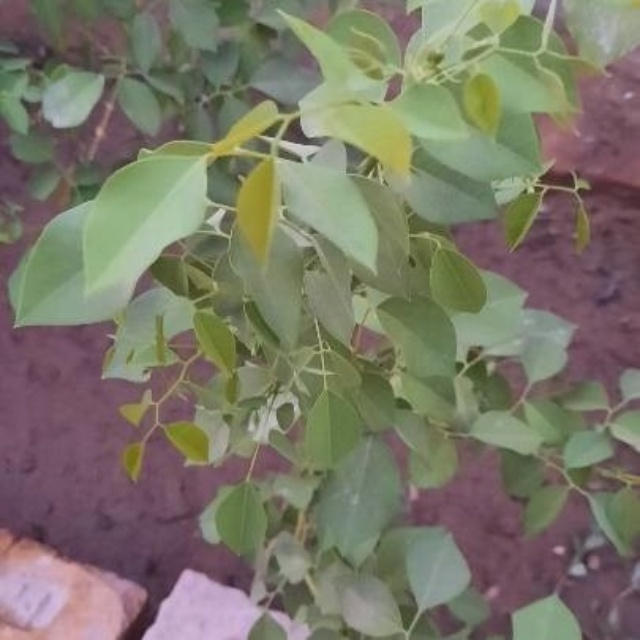obstacle: (46, 84, 572, 619)
